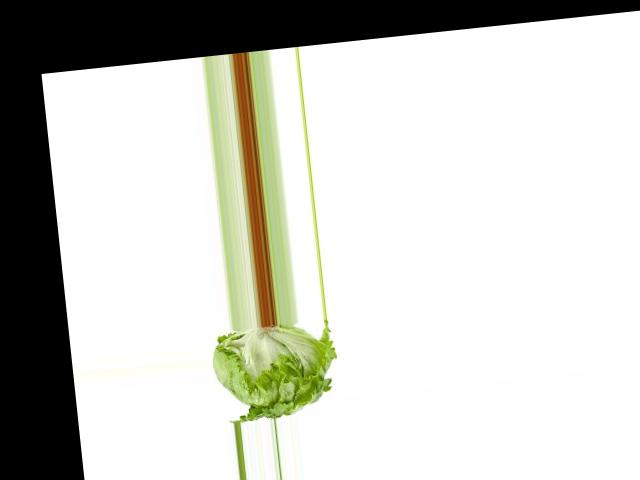lettuce: (206, 318, 346, 424)
